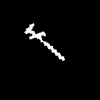double_crochet: (25, 24, 64, 59)
